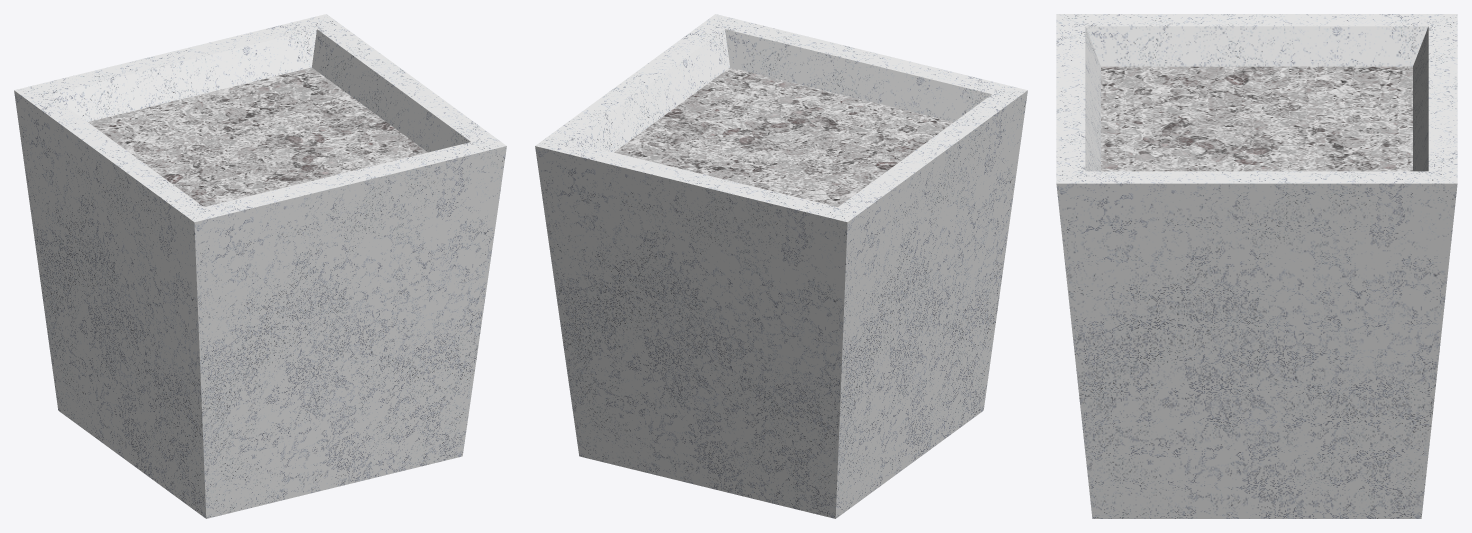
The model's file is Pot_B4.fbx.
3 renders of one model, left to right at view 1: azimuth 30°, elevation 25°; view 2: azimuth 150°, elevation 25°; view 3: azimuth 270°, elevation 25°, orthographic. The views are drawn at different scales.
Visible parts, largest first — view 1: Pot_B4; view 2: Pot_B4; view 3: Pot_B4.
Part boxes in pixels (left/top/right/bottom): Pot_B4: left=14, top=14, right=506, bottom=518; Pot_B4: left=535, top=14, right=1027, bottom=518; Pot_B4: left=1056, top=14, right=1457, bottom=518.
Size of the model in its own units: 0.1177 by 0.1135 by 0.1177.
